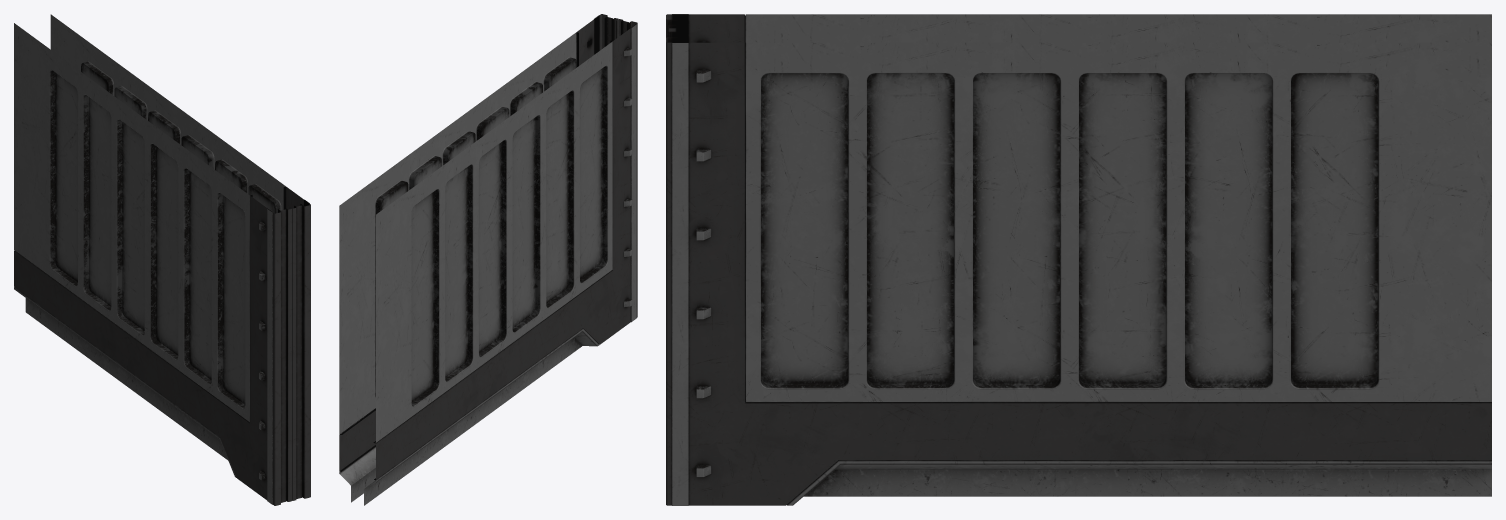
The model's file is SM_HangarBigDoor.fbx.
3 views of the same model, side by side, from view 1: azimuth 30°, elevation 25°; view 2: azimuth 150°, elevation 25°; view 3: azimuth 270°, elevation 25° (orthographic). The views are drawn at different scales.
Parts seen in each view (by area): view 1: SM_HangarBigDoor_LOD0; view 2: SM_HangarBigDoor_LOD0; view 3: SM_HangarBigDoor_LOD0.
Boxes of the visible parts, x1=… form: SM_HangarBigDoor_LOD0: x1=14, y1=14, x2=310, y2=505; SM_HangarBigDoor_LOD0: x1=339, y1=14, x2=637, y2=505; SM_HangarBigDoor_LOD0: x1=666, y1=14, x2=1491, y2=505.
Bounding box in the file's own units: 116 × 1176 × 728.
1 material, 1 textured.
